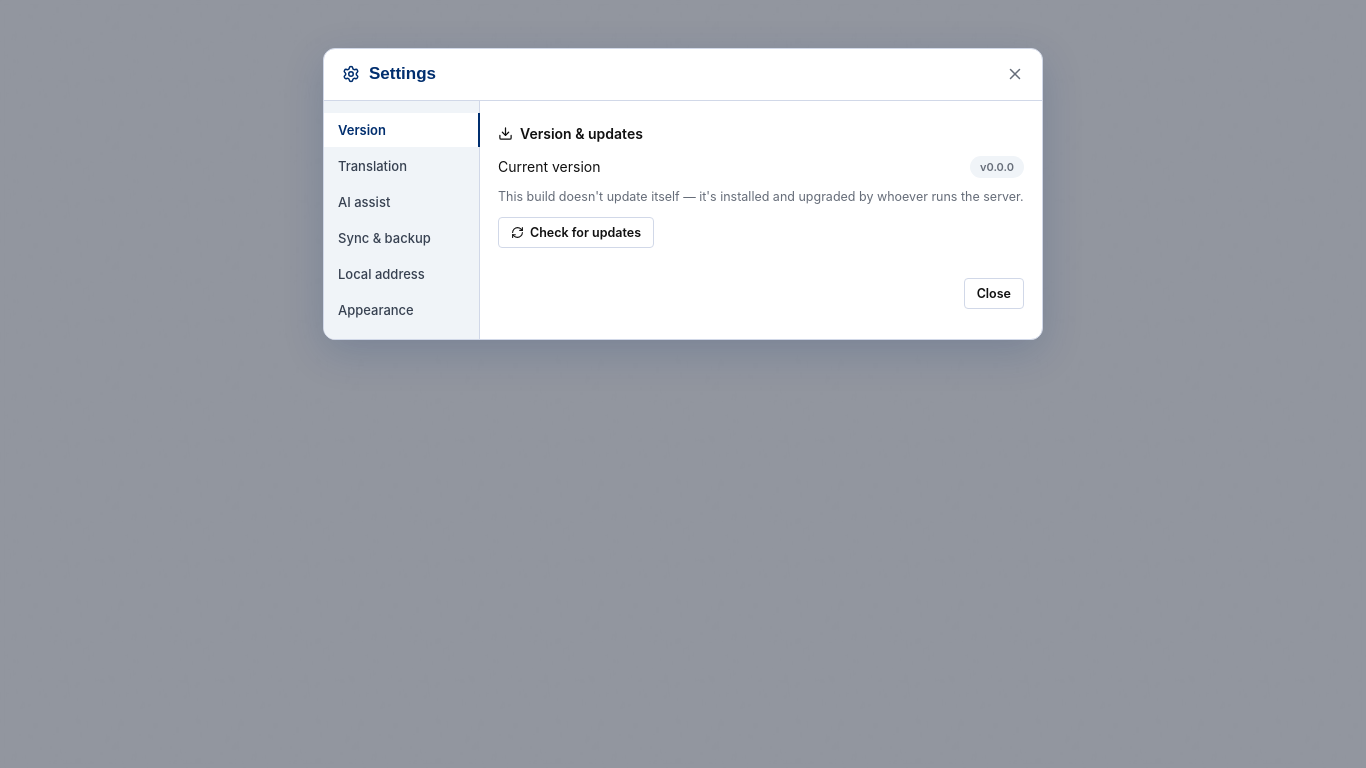
<SettingsModal> › saves a DeepL key
Click the tab "Translation". click: {"x": 402, "y": 166}
box: left=324, top=149, right=480, bottom=183
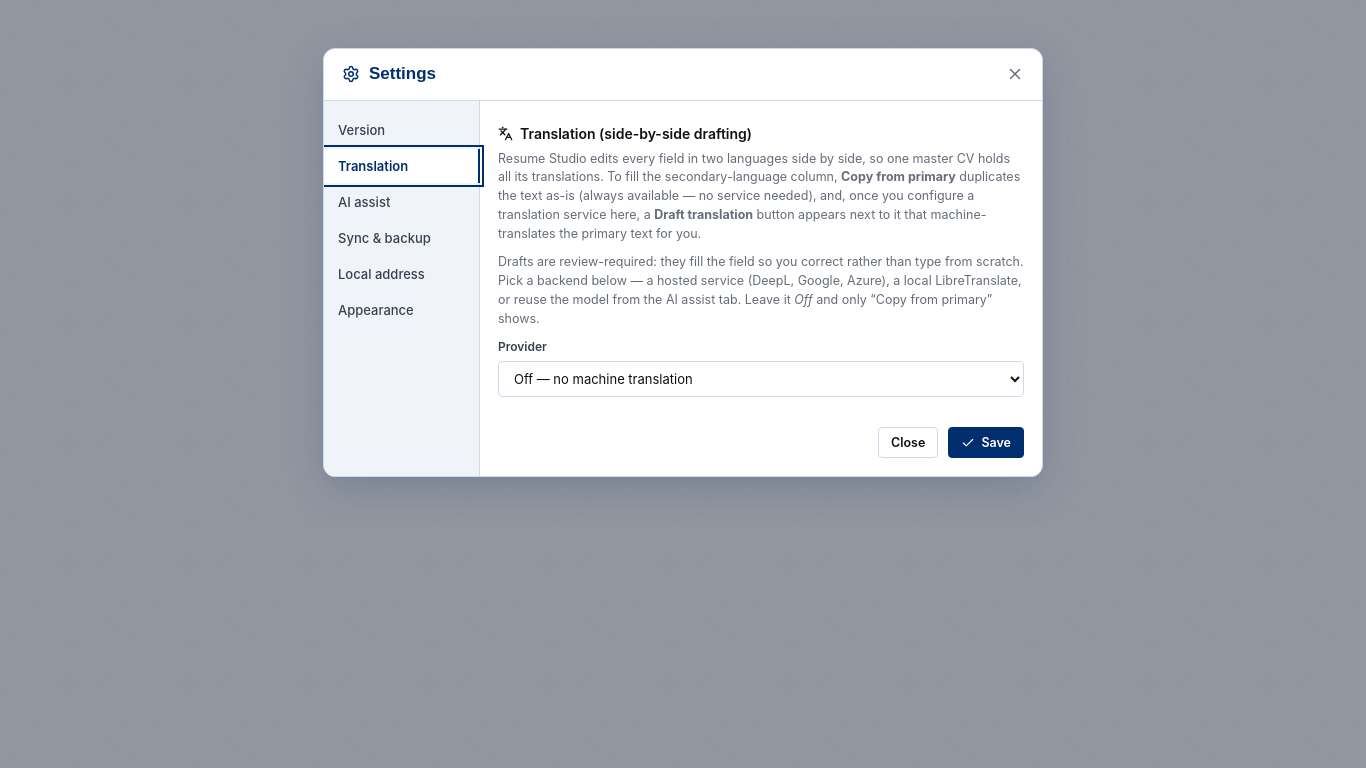
Select "DeepL" in the dropdown named "Translation provider". click: {"x": 761, "y": 379}
box: left=498, top=361, right=1024, bottom=397
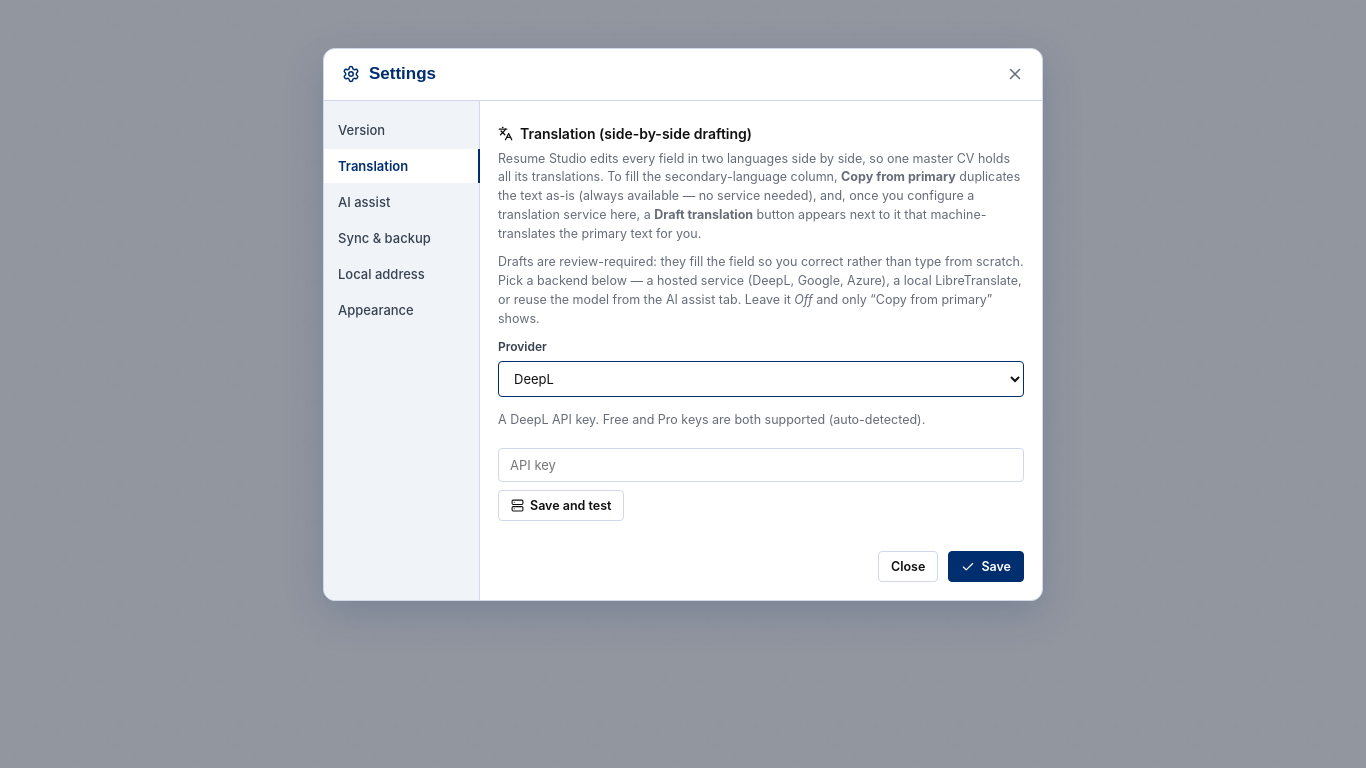
Type "my-deepl-key:fx" into the password field named "DeepL API key". click: {"x": 761, "y": 465}
box: left=498, top=448, right=1024, bottom=482
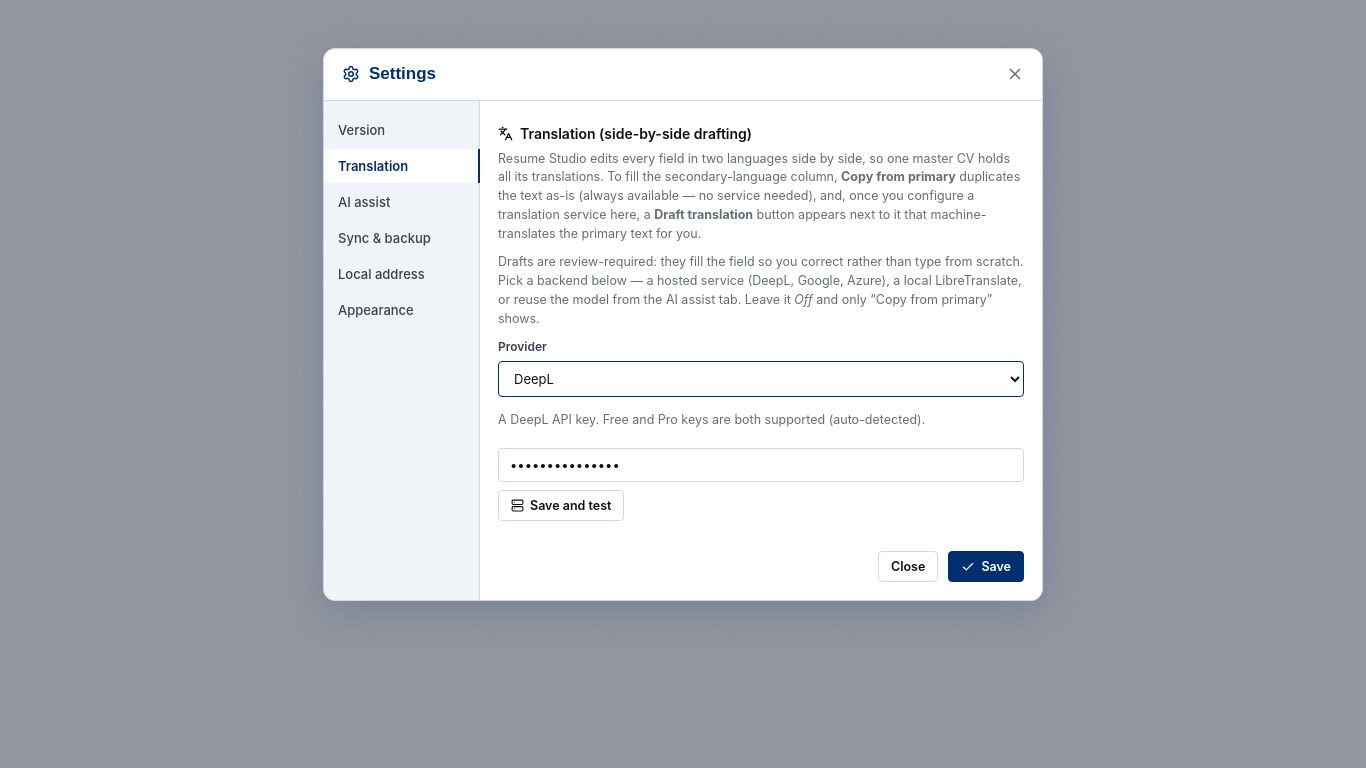
Click the button "Save". click: {"x": 986, "y": 567}
box: left=948, top=551, right=1024, bottom=582
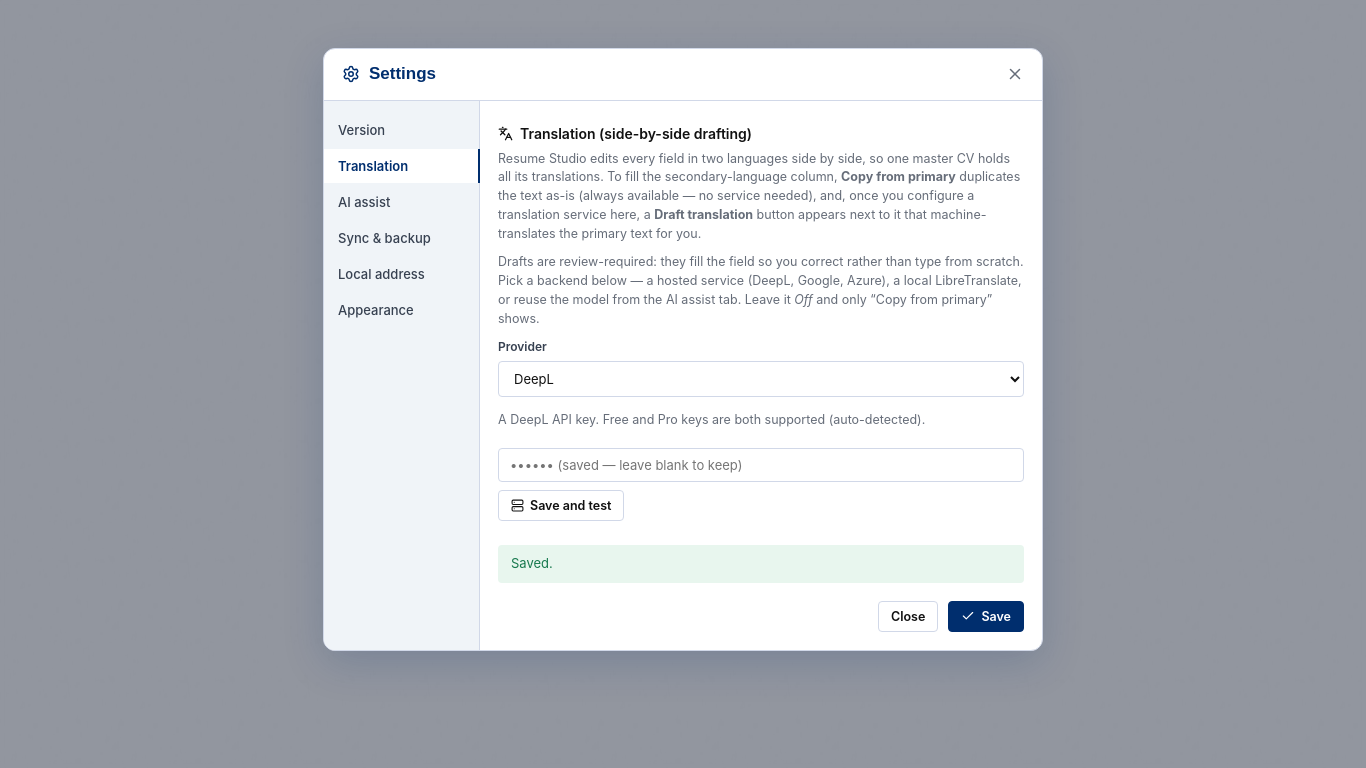
expect the text "Saved." is shown: met, box left=498, top=545, right=1024, bottom=583
